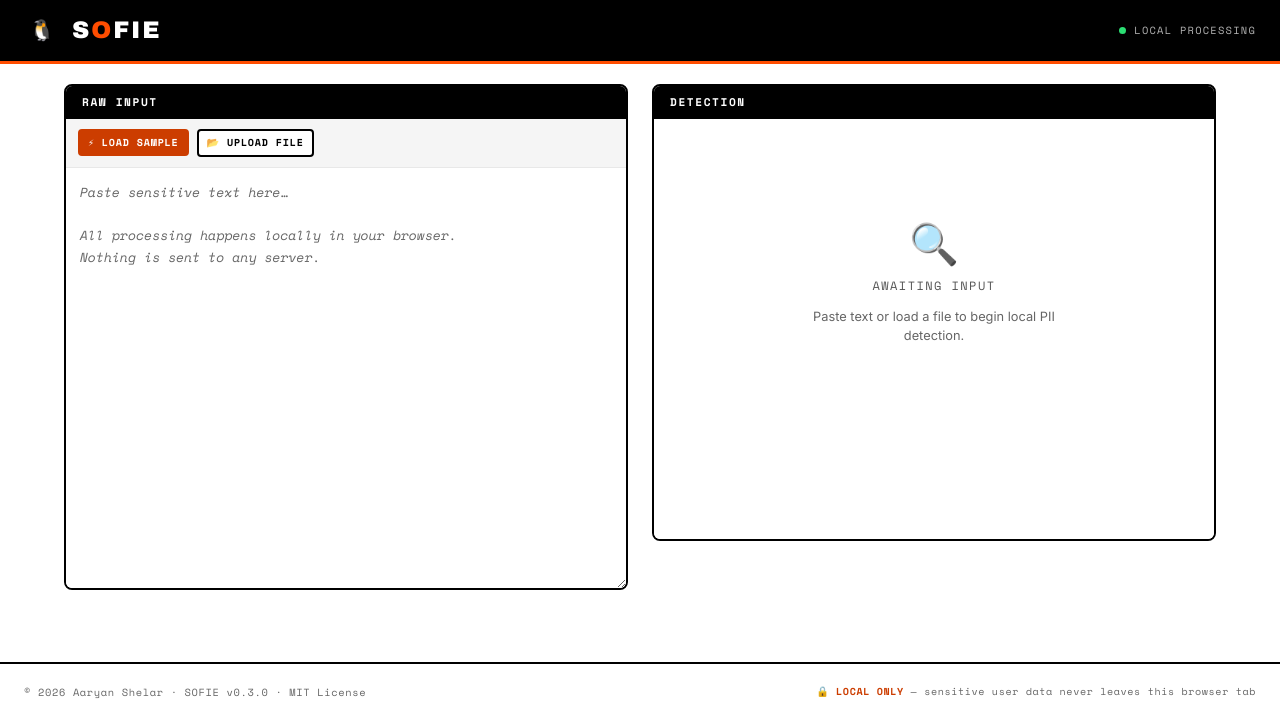
Test: SOFIE Phase 2 UI › 9. Clean text (no PII) shows the no-PII empty state
(page scrolled)
Replace the text in the text box with test id "text-input" with "The quick brown fox jumps over the lazy dog.": (346, 378) x1=66 y1=168 x2=626 y2=588
Wait 400 ms
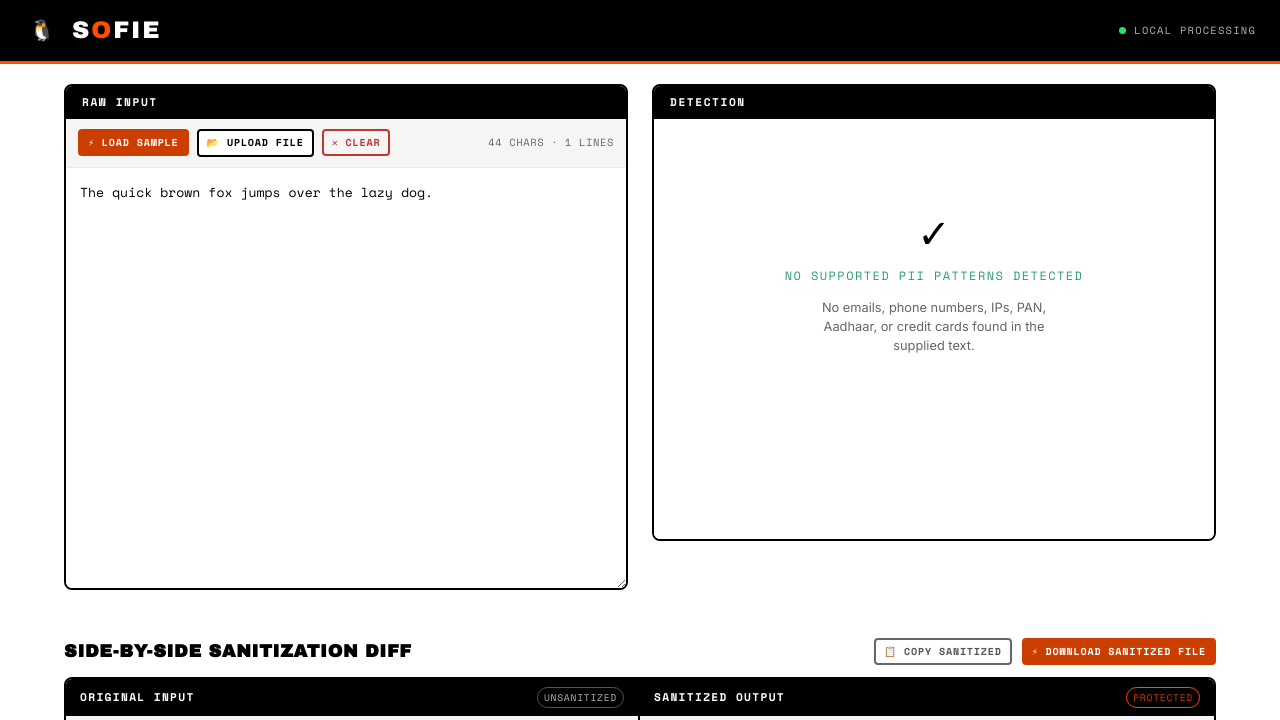
Check: the element with test id "empty-no-pii" is shown, box x1=785 y1=209 x2=1083 y2=353
Check: the element with test id "empty-no-pii" shows "NO SUPPORTED PII PATTERNS", box x1=785 y1=267 x2=1083 y2=284
